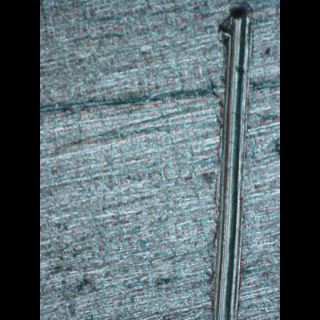d: (201, 2, 258, 320)
